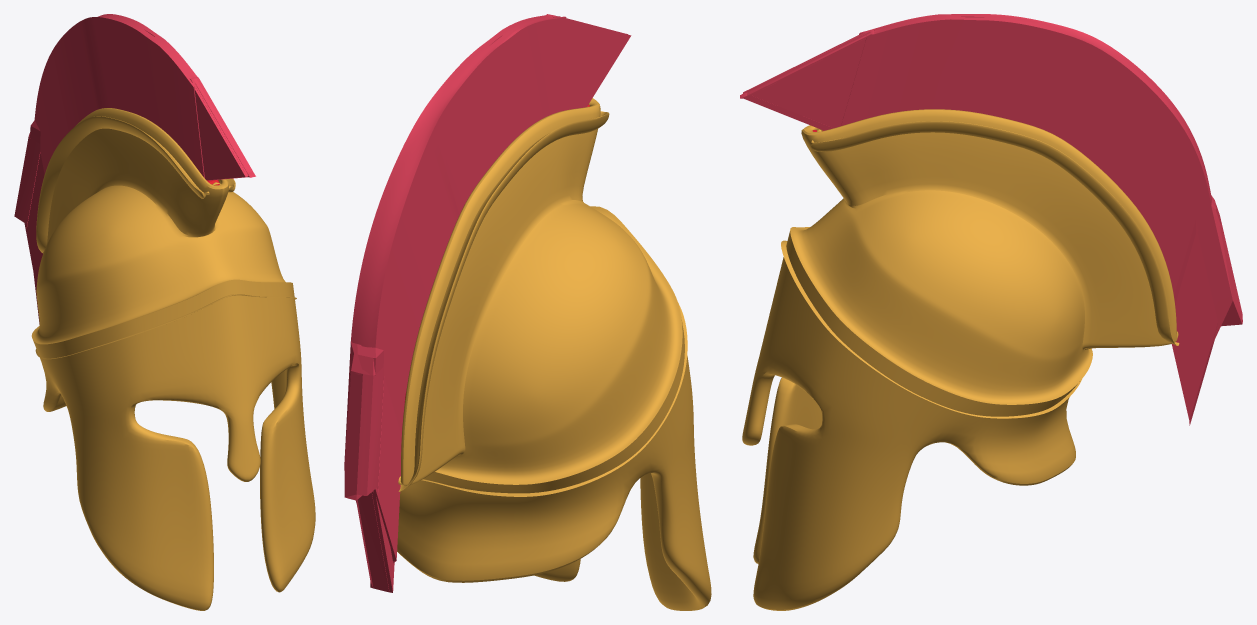
The model's file is basic_helmet_final_without_hair.fbx.
The picture shows the model from 3 angles, left to right: view 1: azimuth 30°, elevation 25°; view 2: azimuth 150°, elevation 25°; view 3: azimuth 270°, elevation 25°; orthographic projection. The views are drawn at different scales.
Visible parts, largest first — view 1: helmet, helmet.003; view 2: helmet, helmet.003; view 3: helmet, helmet.003.
Part boxes in pixels (x1=…): helmet: x1=31, y1=108, x2=315, y2=610; helmet.003: x1=14, y1=14, x2=255, y2=324; helmet: x1=397, y1=98, x2=711, y2=610; helmet.003: x1=344, y1=14, x2=631, y2=592; helmet: x1=742, y1=109, x2=1179, y2=610; helmet.003: x1=740, y1=14, x2=1242, y2=425.
Size of the model in its own units: 105 by 225 by 180.
